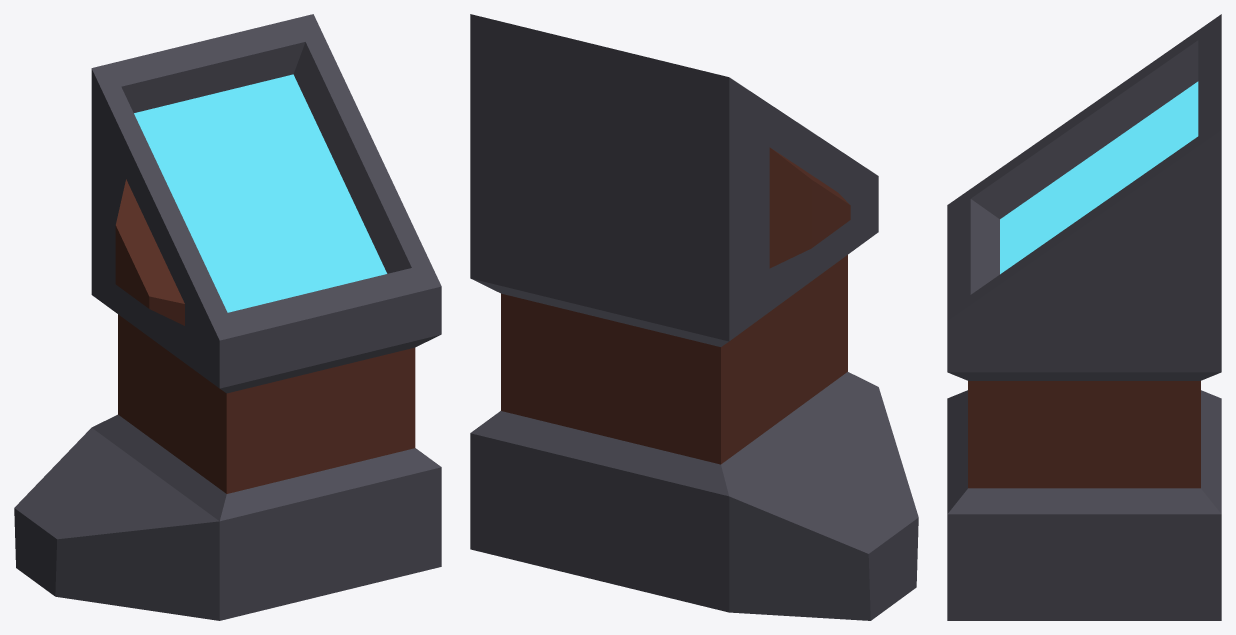
Rendered from Terminal.fbx.
3 views of the same model, side by side, from view 1: azimuth 30°, elevation 25°; view 2: azimuth 150°, elevation 25°; view 3: azimuth 270°, elevation 25° (orthographic). The views are drawn at different scales.
Visible parts, largest first — view 1: Cube; view 2: Cube; view 3: Cube.
Part boxes in pixels (x1=…): Cube: x1=14, y1=14, x2=441, y2=620; Cube: x1=470, y1=14, x2=918, y2=620; Cube: x1=947, y1=14, x2=1221, y2=620.
Bounding box in the file's own units: 144 × 198 × 100.
